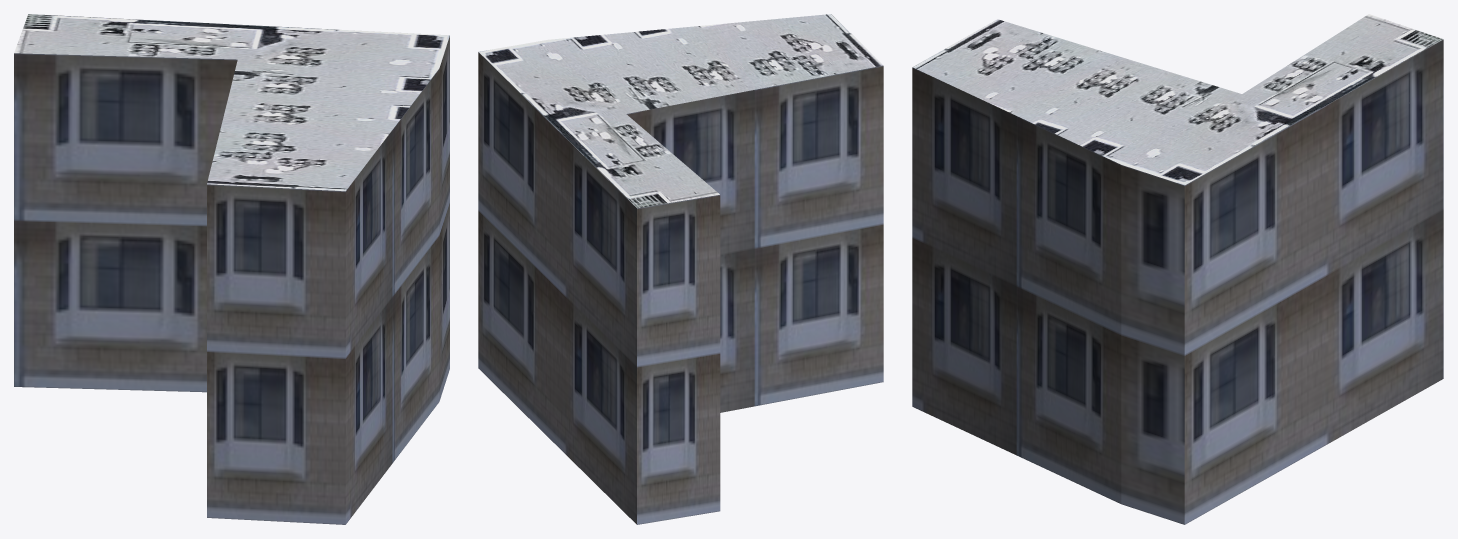
Rendered from ResTex__3685.fbx.
3 views of the same model, side by side, from view 1: azimuth 30°, elevation 25°; view 2: azimuth 150°, elevation 25°; view 3: azimuth 270°, elevation 25° (orthographic). The views are drawn at different scales.
Visible parts, largest first — view 1: CityEngineMaterial_3_m, CityEngineMaterial_2_m; view 2: CityEngineMaterial_3_m, CityEngineMaterial_2_m; view 3: CityEngineMaterial_3_m, CityEngineMaterial_2_m.
Boxes of the visible parts, x1,y1,x2,y2 form: CityEngineMaterial_3_m: (14, 36, 449, 524); CityEngineMaterial_2_m: (14, 14, 449, 191); CityEngineMaterial_3_m: (478, 52, 883, 524); CityEngineMaterial_2_m: (478, 14, 882, 208); CityEngineMaterial_3_m: (912, 39, 1443, 524); CityEngineMaterial_2_m: (912, 14, 1442, 185).
Bounding box in the file's own units: 6.5 × 6 × 8.51.
Materials: 2 (2 with a texture image).
